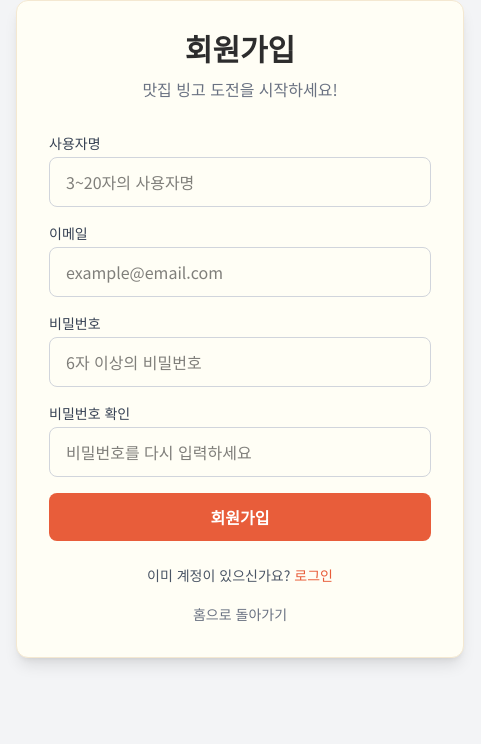
Test: RegisterPage › 에러 처리 › 일반 에러 시 기본 에러 메시지를 표시해야 한다
Type "testuser" into the field labelled "사용자명" at (240, 182), box [49,157,431,207]
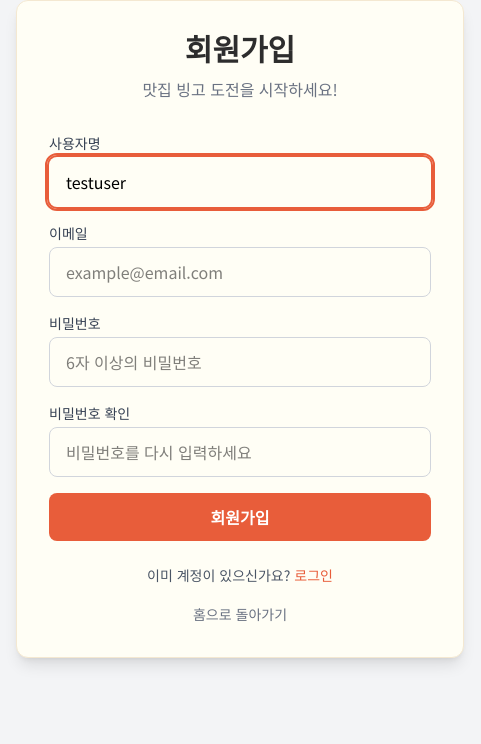
Type "test@test.com" into the field labelled "이메일" at (240, 272), box [49,247,431,297]
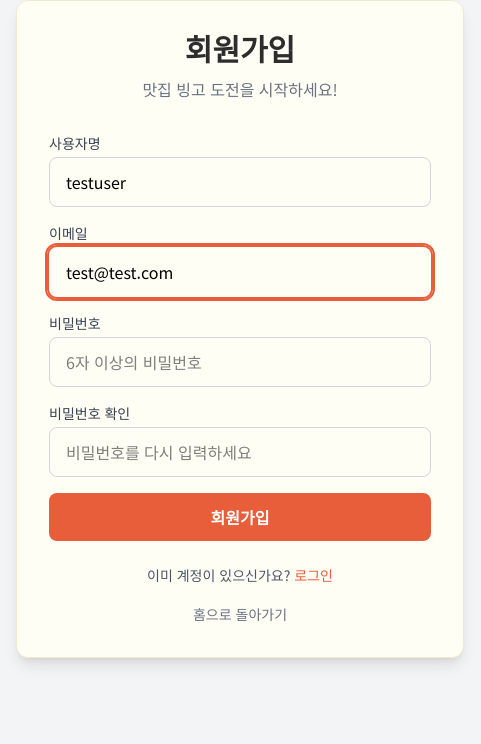
Type "password123" into the password field labelled "비밀번호" at (240, 362), box [49,337,431,387]
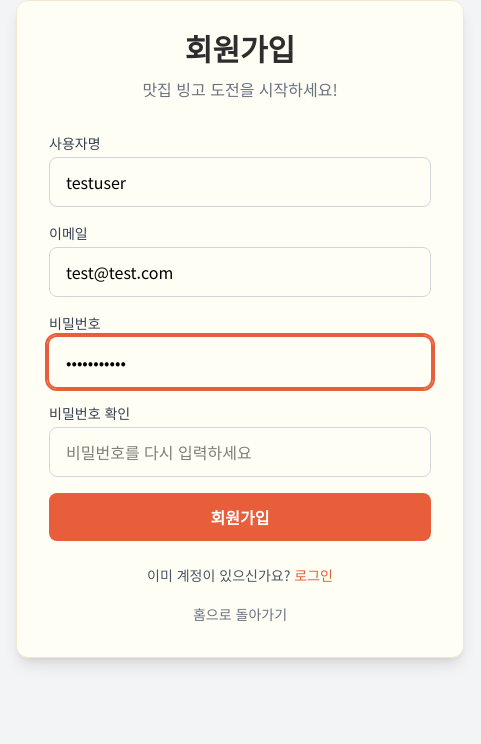
Type "password123" into the password field labelled "비밀번호 확인" at (240, 452), box [49,427,431,477]
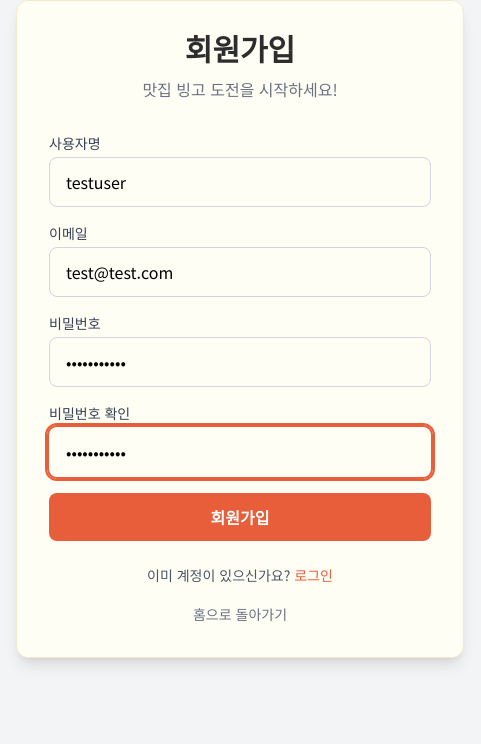
Click the button "회원가입" at (240, 517), box [49,493,431,541]
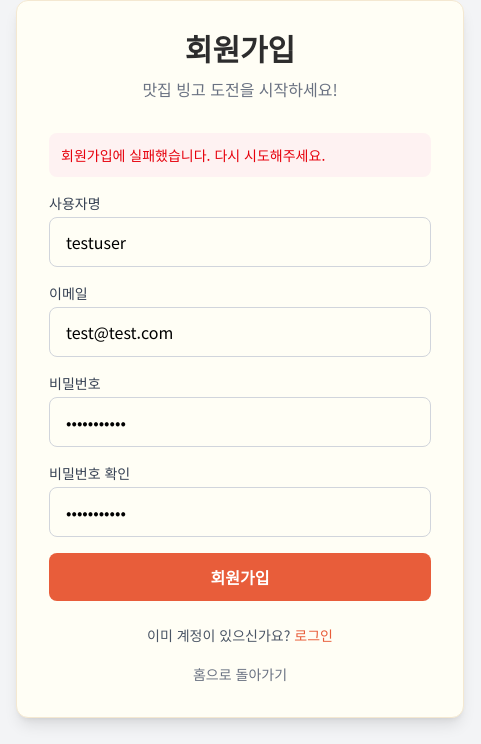
Now the text "회원가입에 실패했습니다. 다시 시도해주세요." is shown, box [49,133,431,177]
